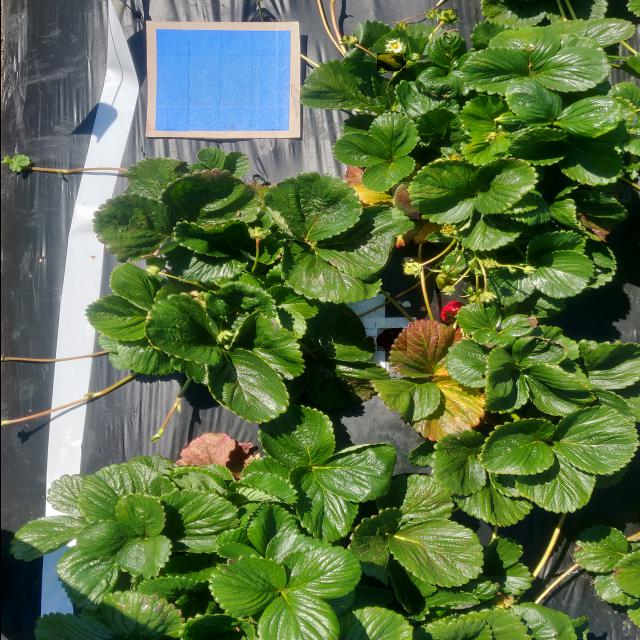Flower: (383, 38, 404, 54)
Green Strawberry: (375, 53, 405, 72), (434, 271, 452, 294), (467, 292, 485, 310), (436, 9, 457, 24), (401, 263, 420, 276)
Red Strawberry: (390, 182, 418, 220), (437, 300, 469, 330), (375, 328, 406, 352)
